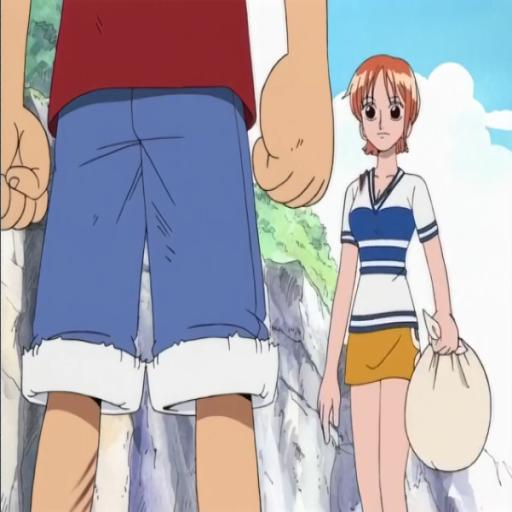Luffy: (0, 0, 342, 512)
Nami: (335, 40, 482, 512)
